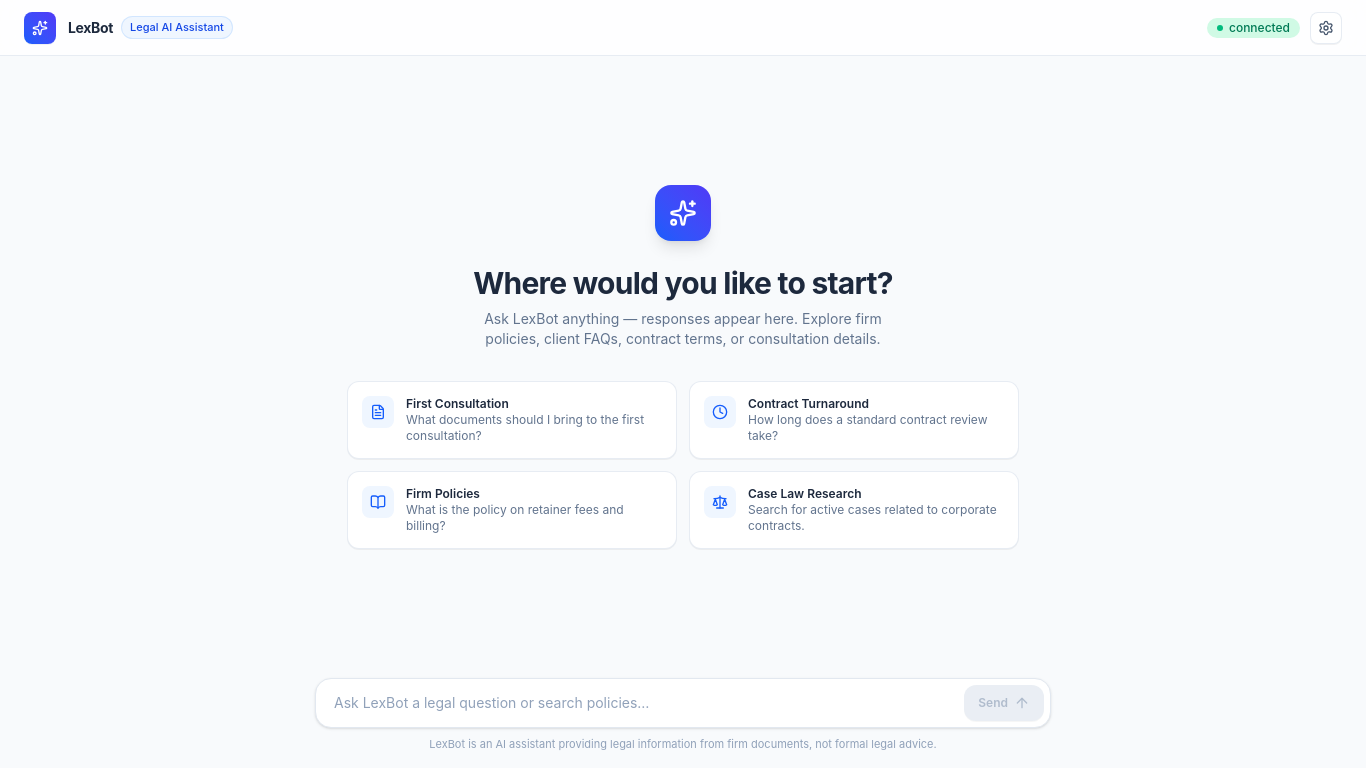
Test: ChatView › replaces the empty state after the first message (UI-6.1)
Check: the element with test id "empty-state" is shown, box [347, 185, 1019, 549]
Type "hi" into the field named "message" at point(643, 702), box [322, 684, 964, 720]
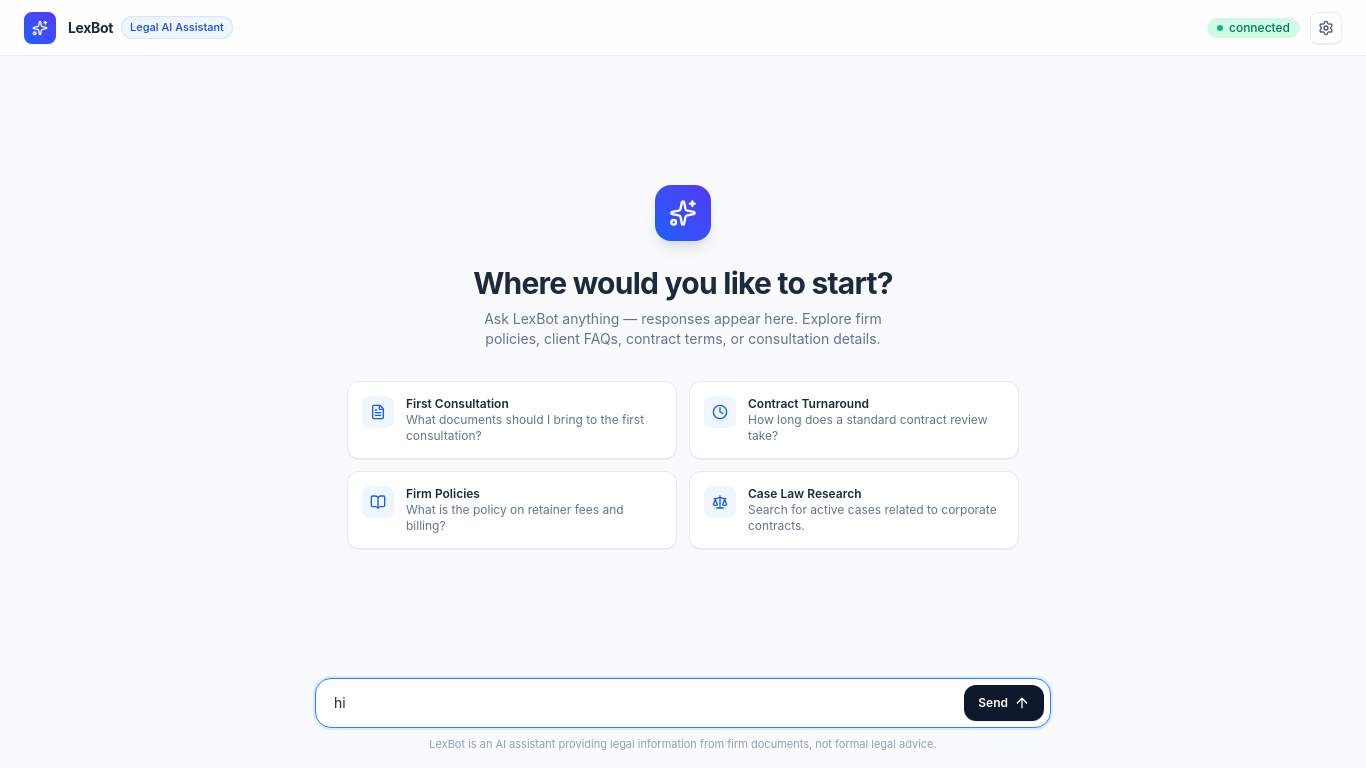
Click the button "Send" at point(1004, 702), box [964, 684, 1044, 720]
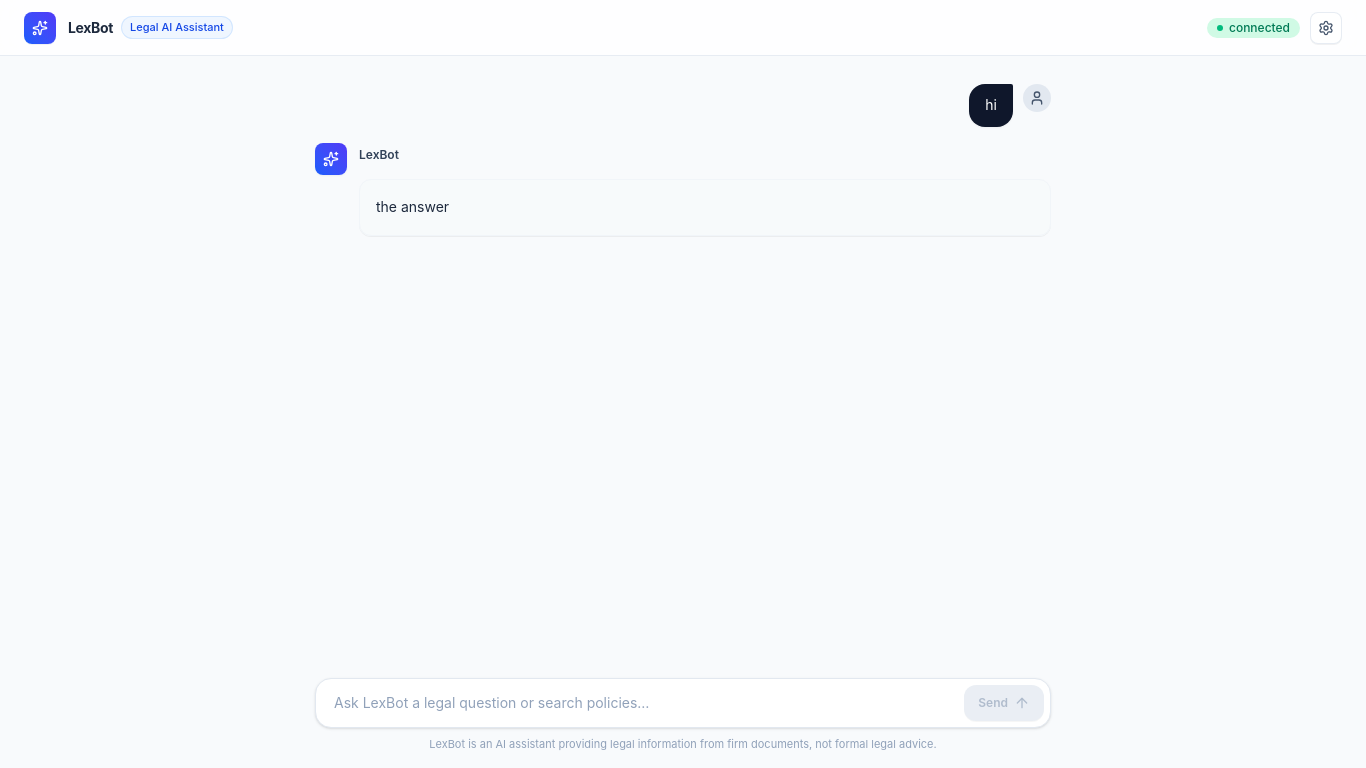
Check: the text "the answer" is shown, box [376, 198, 449, 215]
